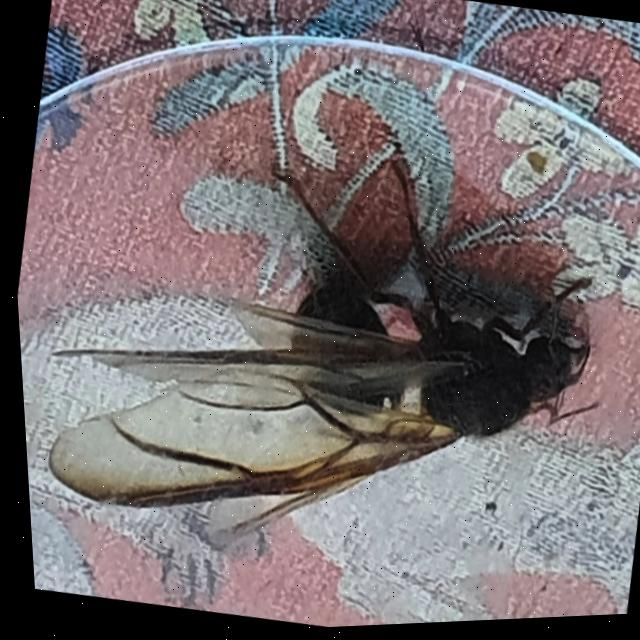Alive-Female-Alate: (6, 102, 640, 622)
